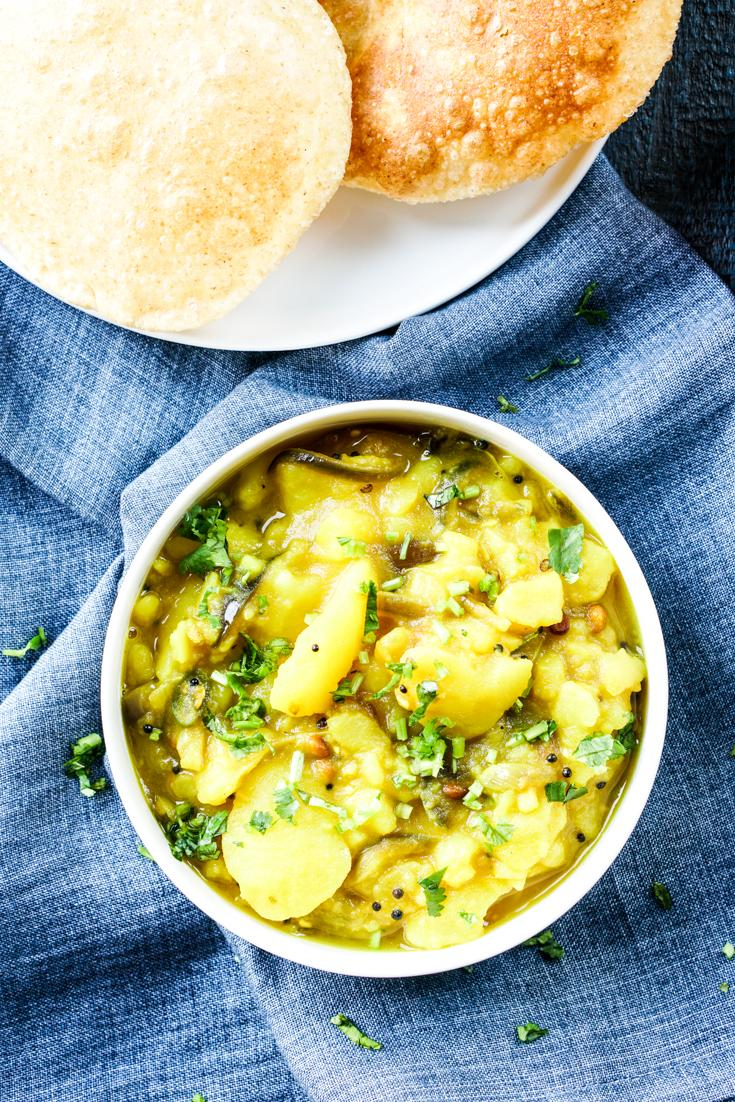puri: (3, 5, 525, 312)
